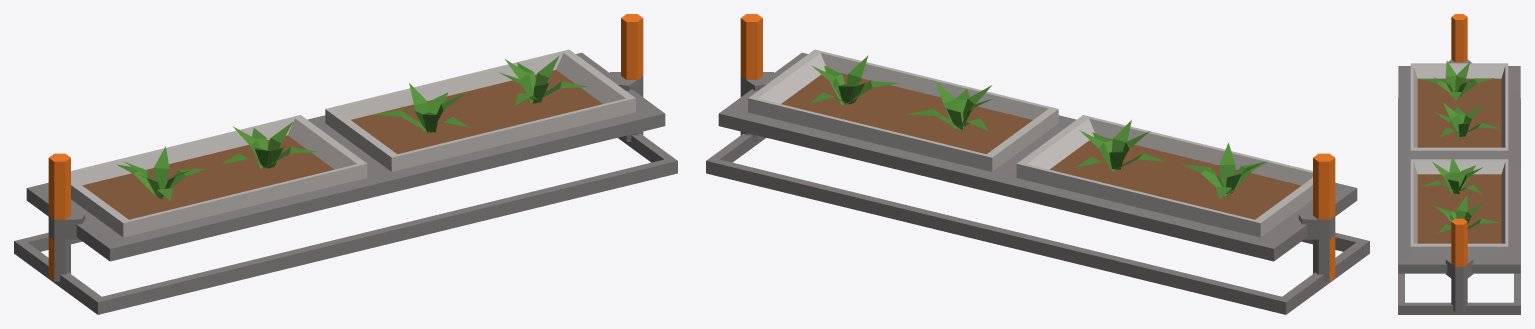
File: scifi_scifi-hydroponic-shelf-bottom.fbx
The picture shows the model from 3 angles, left to right: view 1: azimuth 30°, elevation 25°; view 2: azimuth 150°, elevation 25°; view 3: azimuth 270°, elevation 25°; orthographic projection. The views are drawn at different scales.
Parts seen in each view (by area): view 1: scifi_scifi_hydroponic_shelf_bottom; view 2: scifi_scifi_hydroponic_shelf_bottom; view 3: scifi_scifi_hydroponic_shelf_bottom.
Boxes of the visible parts, left/top/right/bottom form: scifi_scifi_hydroponic_shelf_bottom: left=14, top=14, right=677, bottom=314; scifi_scifi_hydroponic_shelf_bottom: left=706, top=14, right=1369, bottom=314; scifi_scifi_hydroponic_shelf_bottom: left=1398, top=14, right=1520, bottom=314.
Size of the model in its own units: 200 by 40.79 by 49.29.
